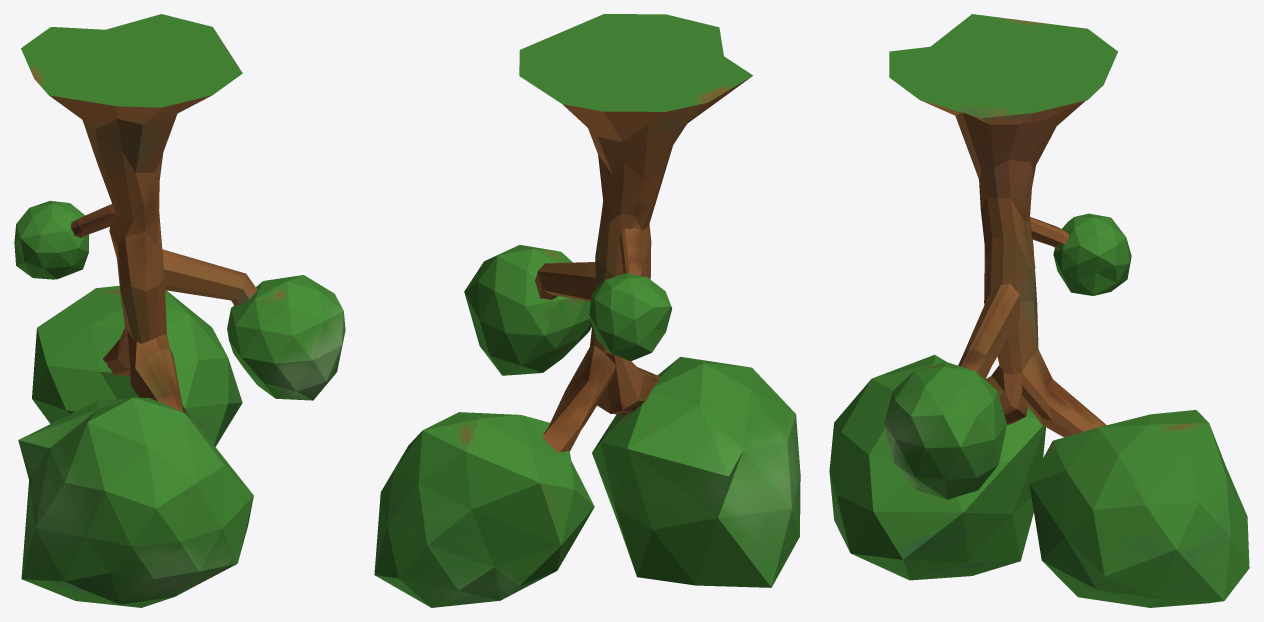
Rendered from tree.glb.
3 renders of one model, left to right at view 1: azimuth 30°, elevation 25°; view 2: azimuth 150°, elevation 25°; view 3: azimuth 270°, elevation 25°, orthographic. The views are drawn at different scales.
Parts seen in each view (by area): view 1: tree; view 2: tree; view 3: tree.
Part boxes in pixels (bbox=[...]): tree: bbox=[14, 14, 345, 607]; tree: bbox=[374, 14, 800, 607]; tree: bbox=[829, 14, 1249, 607].
Bounding box in the file's own units: 1.48 × 2.32 × 1.69.
1 material, 1 textured.
